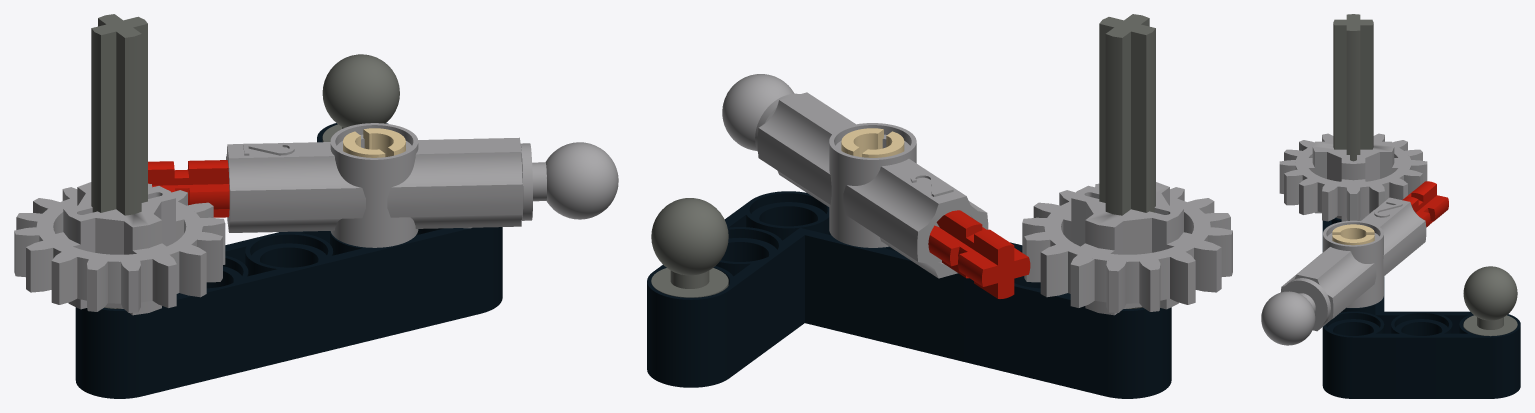
File: Ratsche.glb
The picture shows the model from 3 angles, left to right: view 1: azimuth 30°, elevation 25°; view 2: azimuth 150°, elevation 25°; view 3: azimuth 270°, elevation 25°; orthographic projection. The views are drawn at different scales.
Parts seen in each view (by area): view 1: 32526.dat, 87083.dat, 32034.dat, 2736.dat, 6628.dat, 32062.dat, 3673.dat; view 2: 32526.dat, 87083.dat, 32034.dat, 6628.dat, 32062.dat, 2736.dat, 3673.dat; view 3: 32526.dat, 87083.dat, 32034.dat, 2736.dat, 6628.dat, 32062.dat, 3673.dat.
Boxes of the visible parts, x1,y1,x2,y2 form: 32526.dat: [75, 123, 502, 398]; 87083.dat: [14, 14, 225, 315]; 32034.dat: [226, 123, 522, 247]; 2736.dat: [520, 142, 618, 220]; 6628.dat: [322, 54, 399, 141]; 32062.dat: [148, 160, 229, 217]; 3673.dat: [343, 128, 405, 157]; 32526.dat: [647, 191, 1171, 398]; 87083.dat: [1022, 14, 1232, 315]; 32034.dat: [757, 92, 988, 278]; 6628.dat: [651, 198, 728, 297]; 32062.dat: [928, 210, 1030, 298]; 2736.dat: [722, 74, 799, 151]; 3673.dat: [841, 128, 904, 157]; 32526.dat: [1322, 217, 1520, 398]; 87083.dat: [1279, 14, 1427, 221]; 32034.dat: [1280, 197, 1426, 331]; 2736.dat: [1261, 278, 1330, 345]; 6628.dat: [1463, 266, 1517, 336]; 32062.dat: [1402, 181, 1448, 227]; 3673.dat: [1332, 224, 1374, 245].
Size of the model in its own units: 1.27 by 0.798 by 0.7577.
